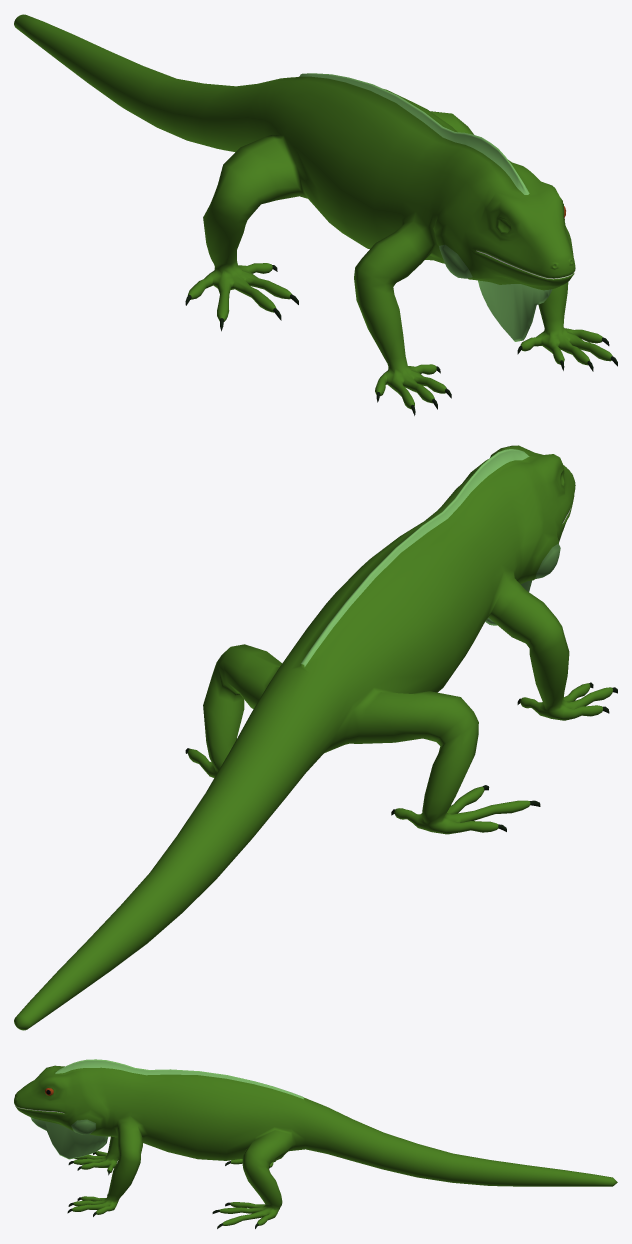
Rendered from iguana.obj.
The picture shows the model from 3 angles, top to bottom: view 1: azimuth 30°, elevation 25°; view 2: azimuth 150°, elevation 25°; view 3: azimuth 270°, elevation 25°; orthographic projection. The views are drawn at different scales.
Visible parts, largest first — view 1: iguana; view 2: iguana; view 3: iguana.
Boxes of the visible parts, bbox=[...] form: iguana: bbox=[14, 14, 617, 415]; iguana: bbox=[14, 445, 617, 1030]; iguana: bbox=[14, 1059, 617, 1228].
Size of the model in its own units: 0.2585 by 0.1771 by 0.7636.
